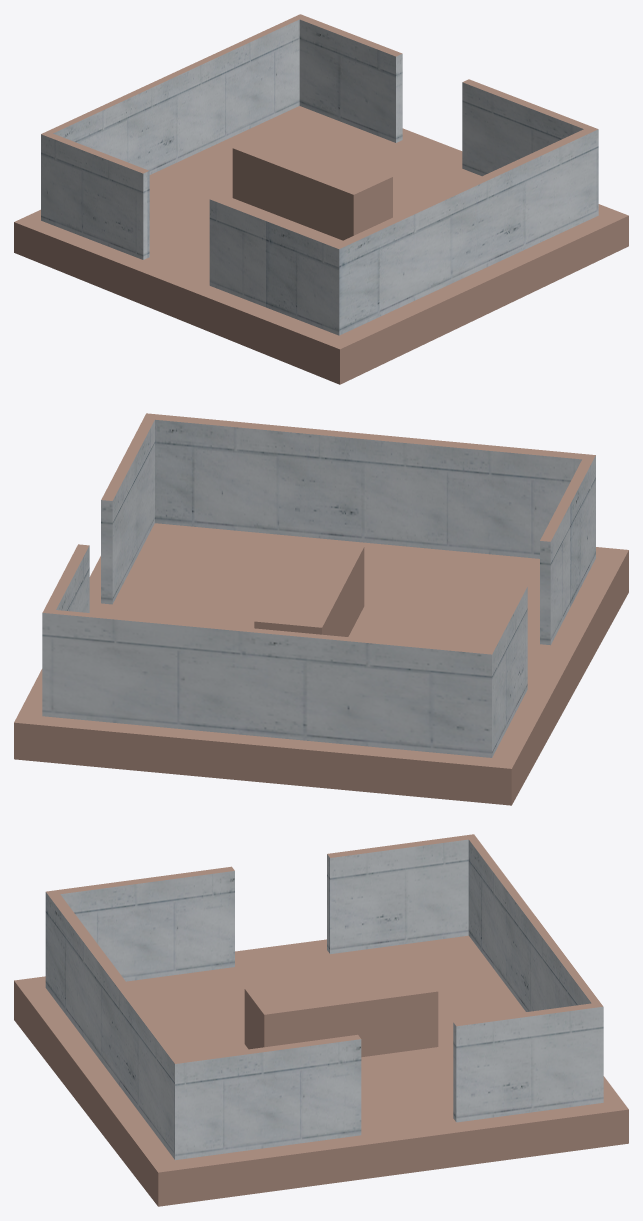
The model's file is eschara.fbx.
3 renders of one model, top to bottom at view 1: azimuth 30°, elevation 25°; view 2: azimuth 150°, elevation 25°; view 3: azimuth 270°, elevation 25°, orthographic. The views are drawn at different scales.
Parts seen in each view (by area): view 1: Model; view 2: Model; view 3: Model.
Part boxes in pixels (bbox=[...]): Model: bbox=[14, 14, 628, 384]; Model: bbox=[14, 413, 628, 805]; Model: bbox=[14, 834, 628, 1206].
Bounding box in the file's own units: 8650 × 2153 × 8850.
